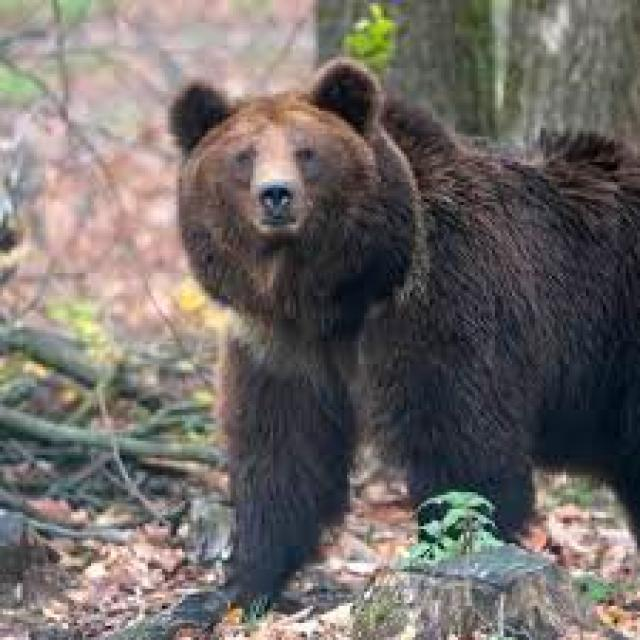bear: (171, 57, 637, 600)
